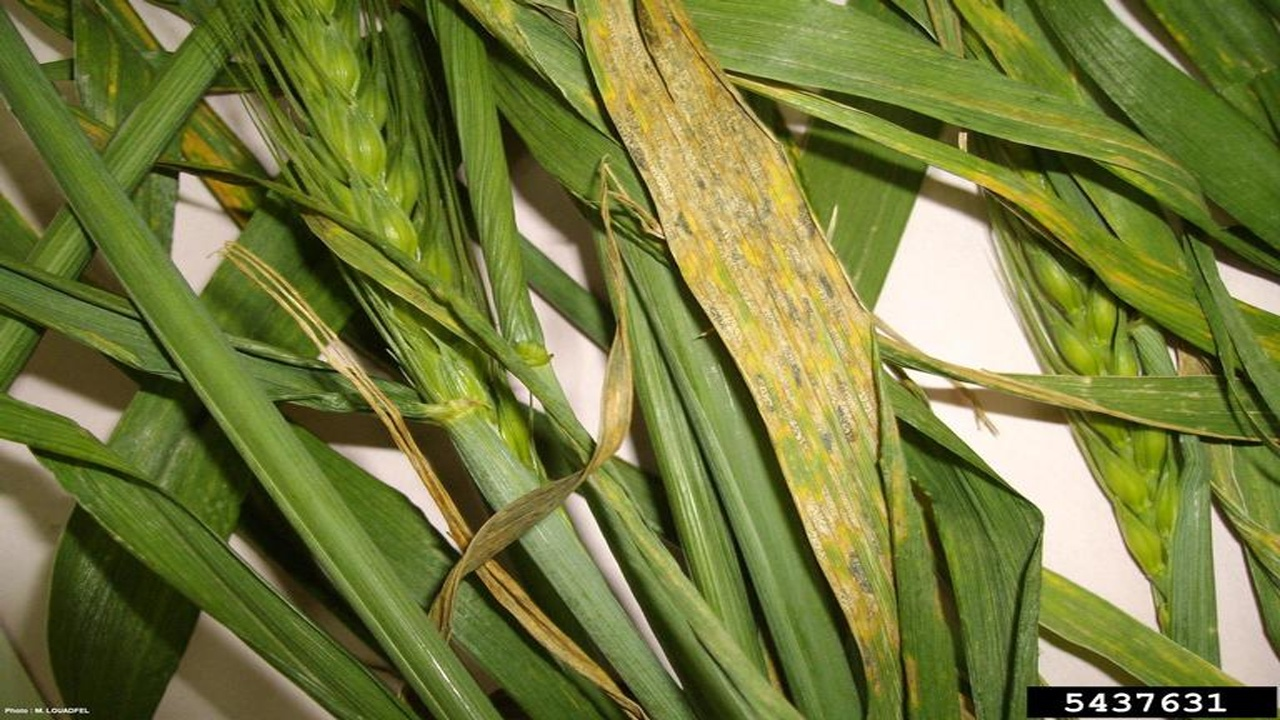tan_spot: (573, 3, 947, 720)
